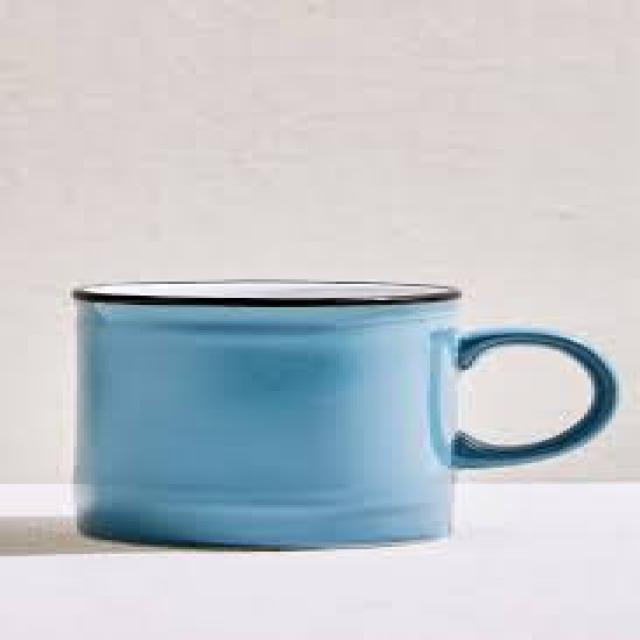taza: (70, 278, 620, 555)
